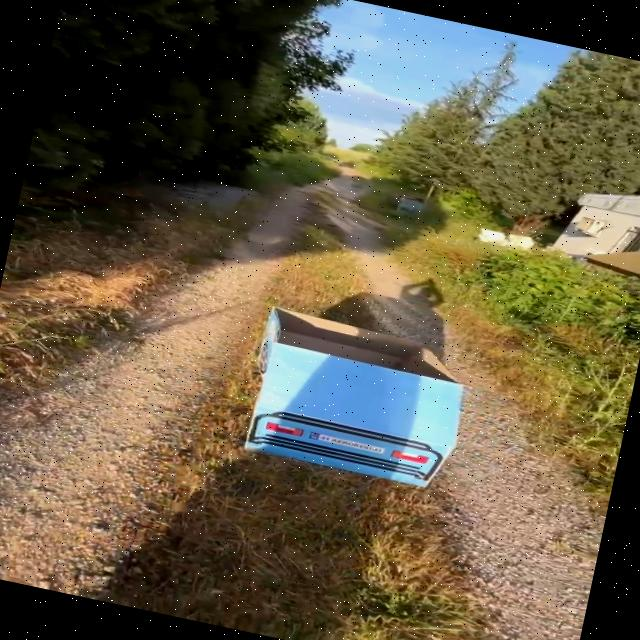blue_car: (206, 278, 514, 521)
